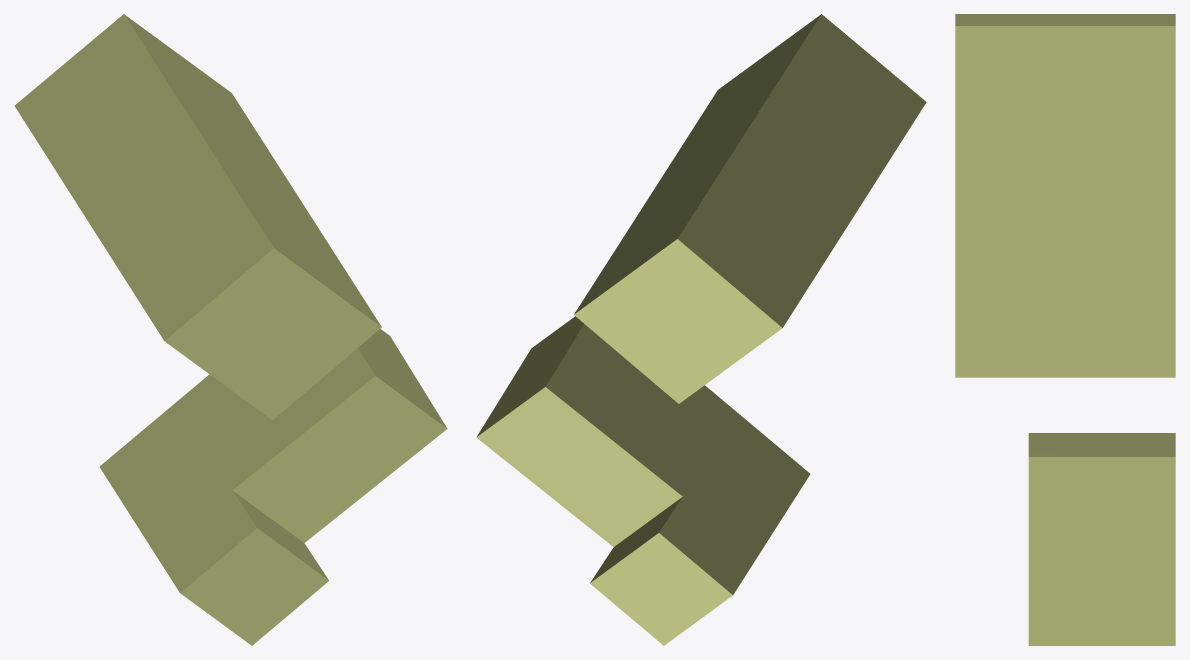
The picture shows the model from 3 angles, left to right: view 1: azimuth 30°, elevation 25°; view 2: azimuth 150°, elevation 25°; view 3: azimuth 270°, elevation 25°; orthographic projection. The views are drawn at different scales.
Visible parts, largest first — view 1: 0_1_2_0_3_3_0_2_2_2; view 2: 0_1_2_0_3_3_0_2_2_2; view 3: 0_1_2_0_3_3_0_2_2_2.
Boxes of the visible parts, left/top/right/bottom form: 0_1_2_0_3_3_0_2_2_2: left=14, top=14, right=447, bottom=645; 0_1_2_0_3_3_0_2_2_2: left=476, top=14, right=926, bottom=645; 0_1_2_0_3_3_0_2_2_2: left=955, top=14, right=1175, bottom=645.
Bounding box in the file's own units: 17.35 × 27.23 × 9.
